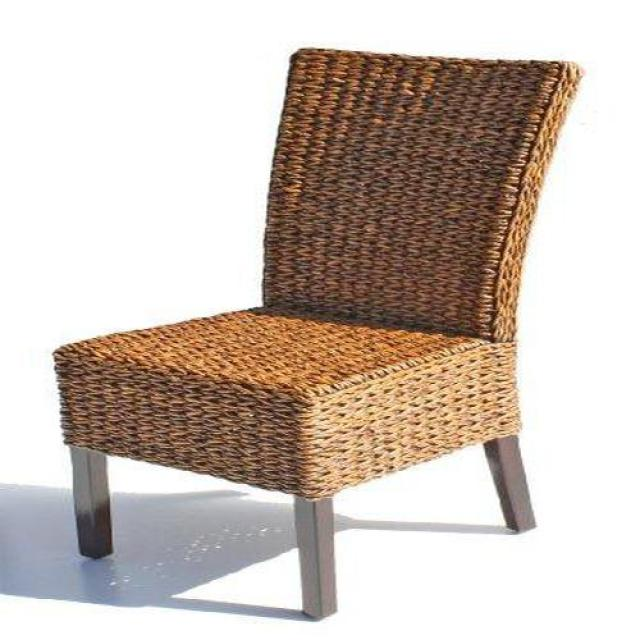chair: (52, 49, 584, 620)
